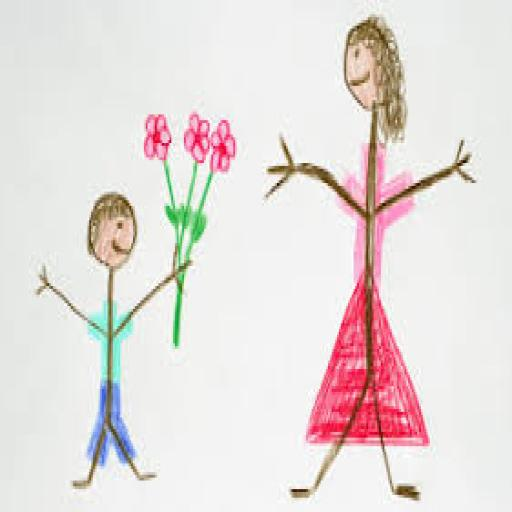person: (261, 12, 478, 505), (34, 186, 193, 494)
